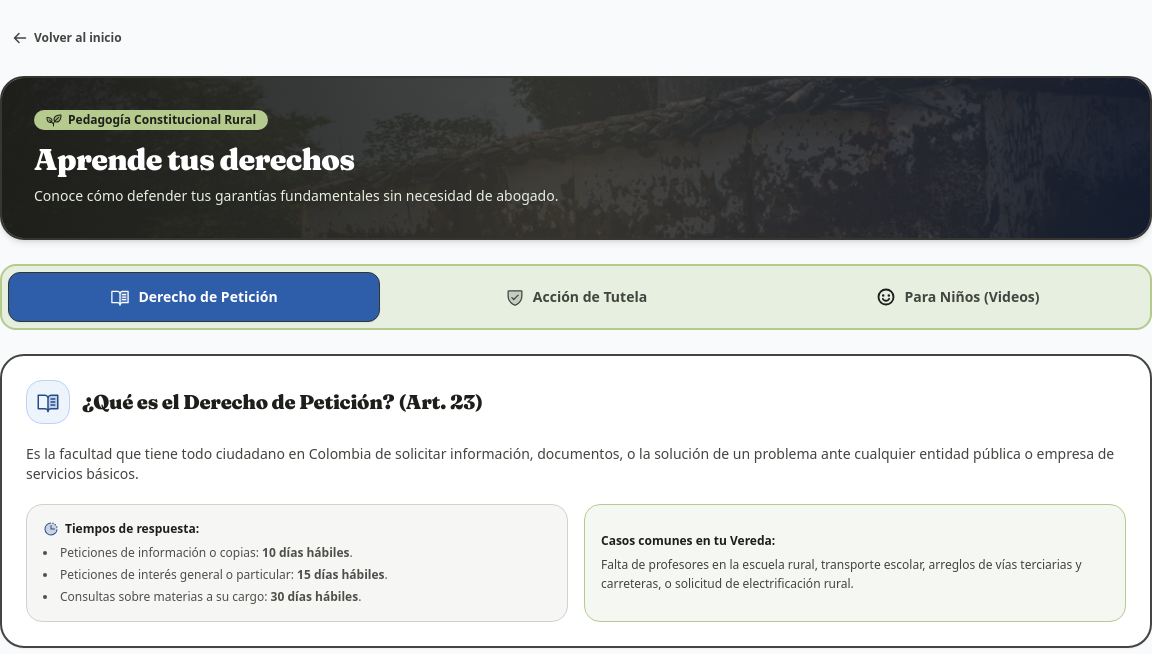
Test: LearnRights Feature & Acceptance Criteria (R2) › TC-T1-F16-02: toggles to Acción de Tutela view when clicking the Tutela tab
What coordinates should you click on to do the following:
click the button "Acción de Tutela"
I would click on:
 (576, 297)
Its box is left=390, top=272, right=762, bottom=322.
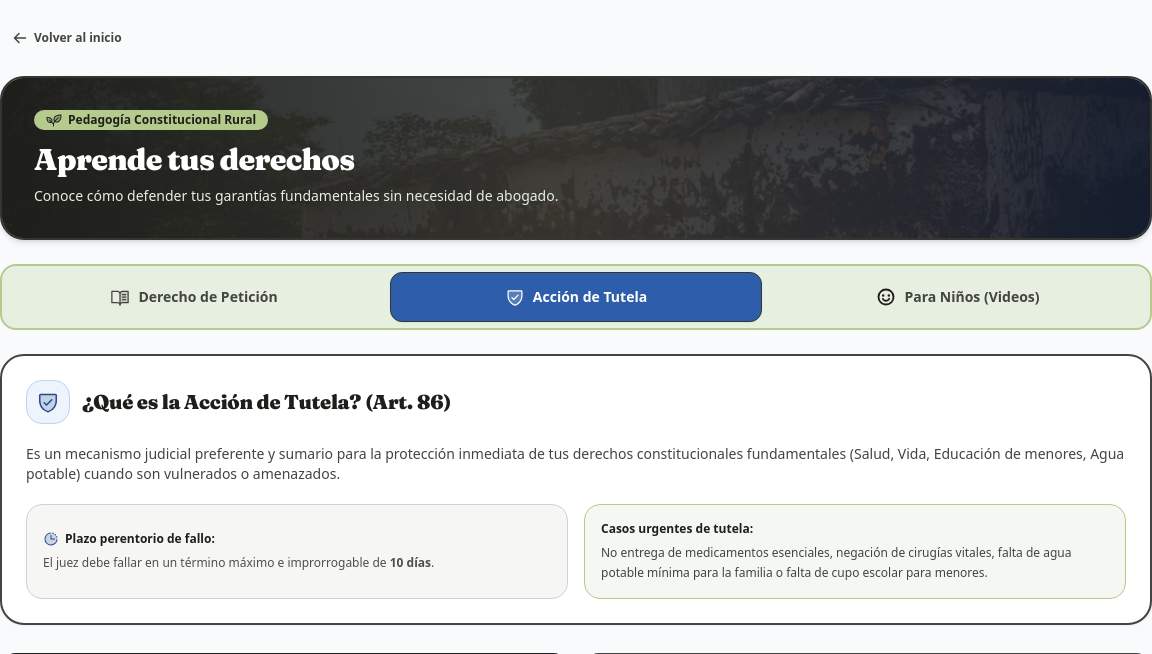
Expected: the heading "¿Qué es la Acción de Tutela? (Art. 86)" is shown, left=82, top=388, right=451, bottom=416
Expected: the text "protección inmediata de tus derechos constitucionales fundamentales" is shown, left=26, top=444, right=1124, bottom=483
Expected: the text "El juez debe fallar en un término máximo e improrrogable" is shown, left=43, top=554, right=390, bottom=571
